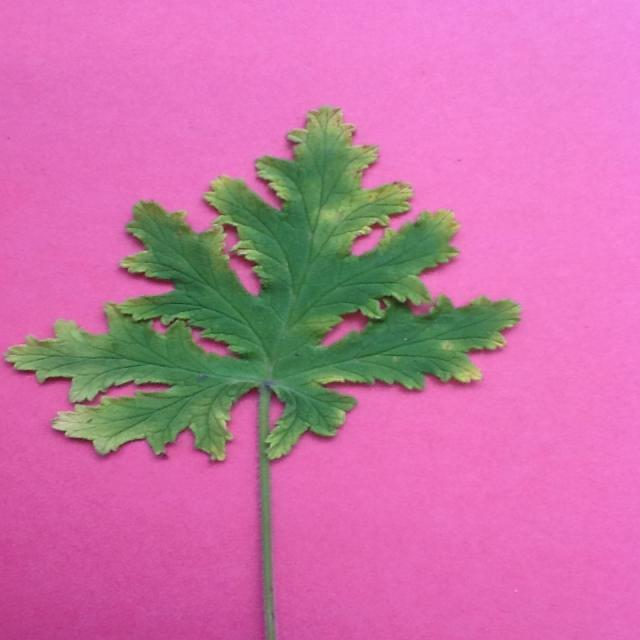foliage: (0, 96, 526, 640)
